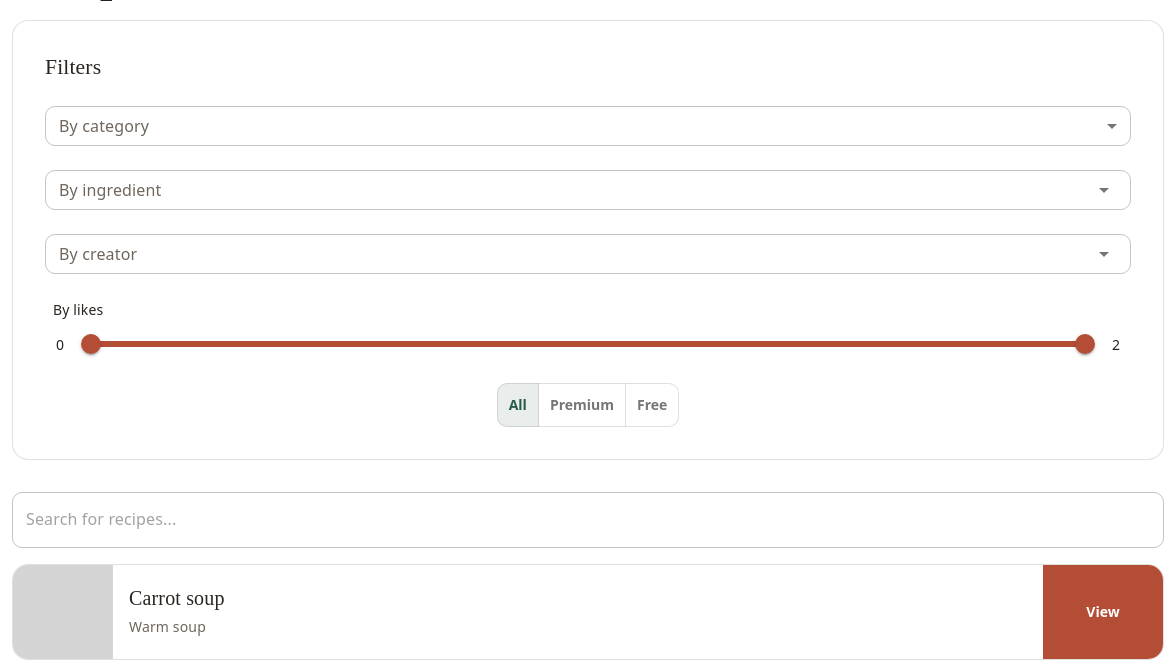
Scenario: search displays an empty result and navigates from a recipe card
Click the button "View": (1103, 612) [1043,565,1163,659]
(page scrolled)
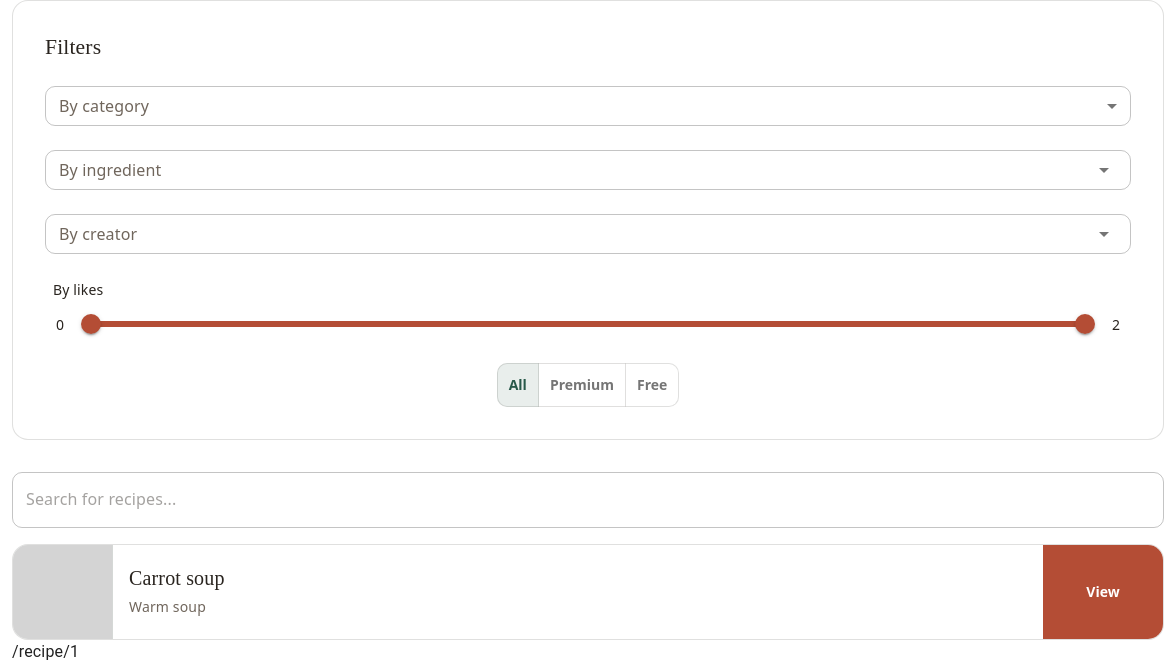
expect the text with test id "location" reads "/recipe/1": met, box [12,642,79,661]
